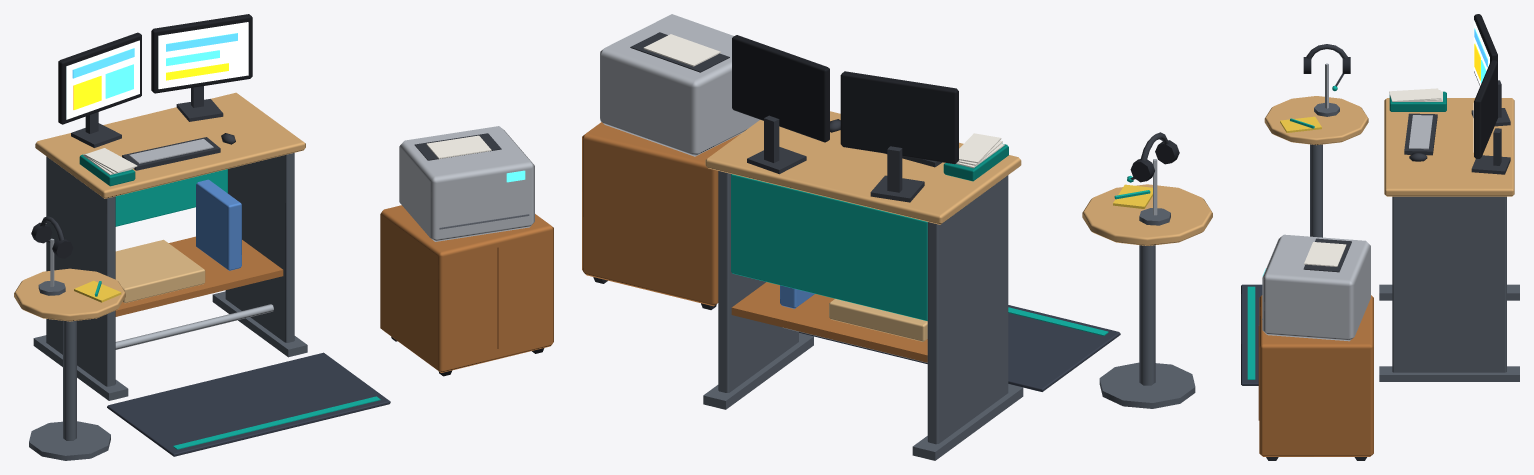
The model's file is station_intake_1.glb.
3 views of the same model, side by side, from view 1: azimuth 30°, elevation 25°; view 2: azimuth 150°, elevation 25°; view 3: azimuth 270°, elevation 25° (orthographic). The views are drawn at different scales.
Visible parts, largest first — view 1: station_intake_1; view 2: station_intake_1; view 3: station_intake_1.
Boxes of the visible parts, box(x1,y1,x2,y2) form: station_intake_1: box(14, 14, 553, 460); station_intake_1: box(582, 14, 1212, 460); station_intake_1: box(1241, 14, 1519, 460).
Bounding box in the file's own units: 2.08 × 1.18 × 1.07.
